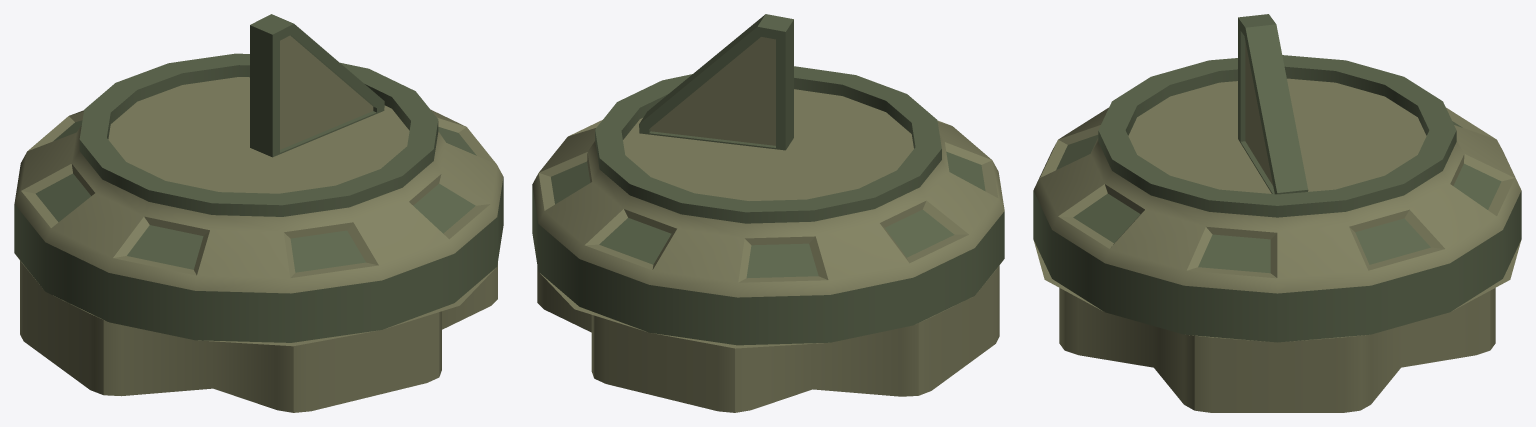
Rendered from sun_watch.fbx.
3 renders of one model, left to right at view 1: azimuth 30°, elevation 25°; view 2: azimuth 150°, elevation 25°; view 3: azimuth 270°, elevation 25°, orthographic. The views are drawn at different scales.
Parts seen in each view (by area): view 1: sun_watch; view 2: sun_watch; view 3: sun_watch.
Boxes of the visible parts, left/top/right/bottom form: sun_watch: left=14, top=14, right=503, bottom=412; sun_watch: left=532, top=14, right=1004, bottom=412; sun_watch: left=1033, top=14, right=1521, bottom=412.
Size of the model in its own units: 4.01 by 2.69 by 4.01.
